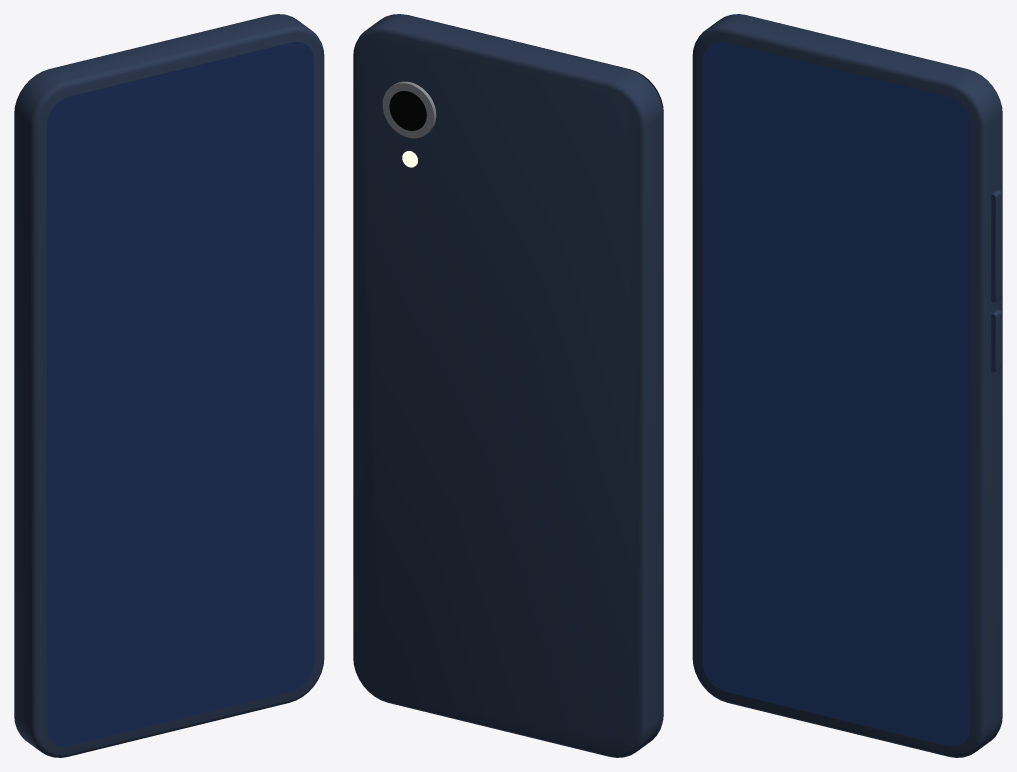
Rendered from nova-a1.glb.
3 renders of one model, left to right at view 1: azimuth 30°, elevation 25°; view 2: azimuth 150°, elevation 25°; view 3: azimuth 330°, elevation 25°, orthographic.
Visible parts, largest first — view 1: nova-a1; view 2: nova-a1; view 3: nova-a1.
Boxes of the visible parts, bbox=[...] form: nova-a1: bbox=[14, 14, 324, 757]; nova-a1: bbox=[353, 14, 663, 757]; nova-a1: bbox=[692, 14, 1002, 757].
Bounding box in the file's own units: 0.0751 × 0.163 × 0.0108.
